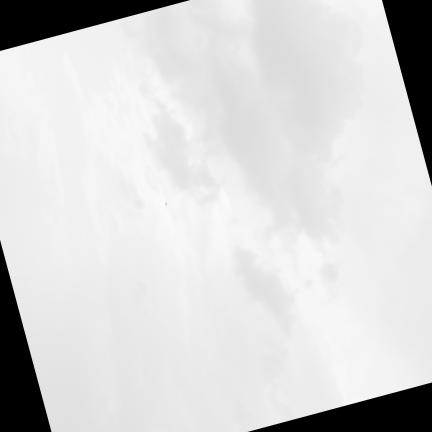Shahed: (164, 201, 166, 208)
